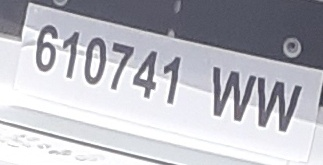0: (83, 36, 108, 85)
1: (161, 55, 181, 106), (61, 30, 80, 81)
4: (133, 49, 158, 101)
6: (34, 22, 58, 73)
7: (110, 40, 134, 91)
w: (257, 75, 303, 133), (211, 64, 256, 123)
